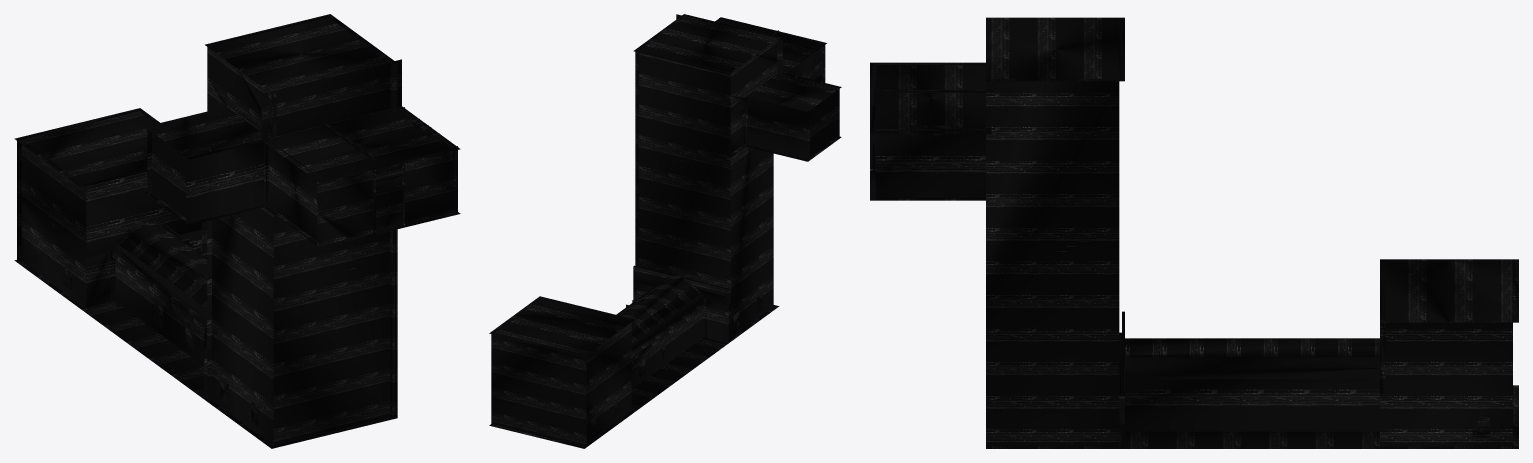
File: coffin_opt.obj
3 views of the same model, side by side, from view 1: azimuth 30°, elevation 25°; view 2: azimuth 150°, elevation 25°; view 3: azimuth 270°, elevation 25° (orthographic). The views are drawn at different scales.
Bounding box in the file's own units: 71.2 × 112 × 179.
16 materials, 16 textured.
